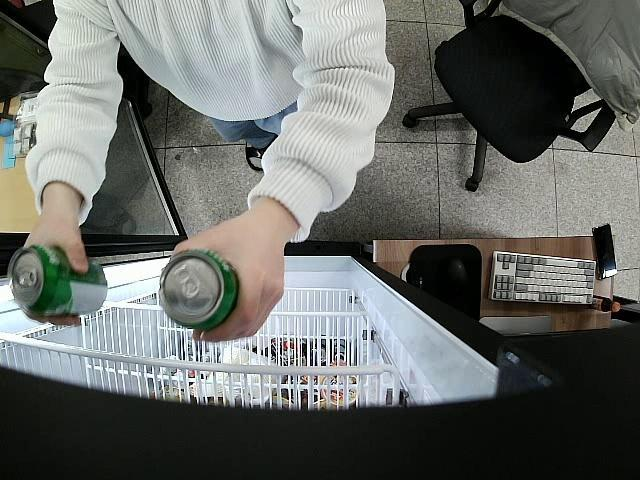12_chilsungCider: (8, 247, 109, 322), (160, 249, 238, 330)
